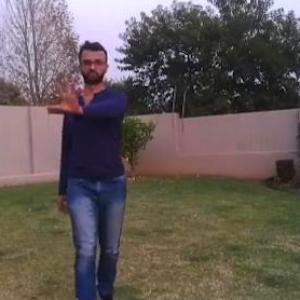follow_hand: (48, 70, 87, 113)
